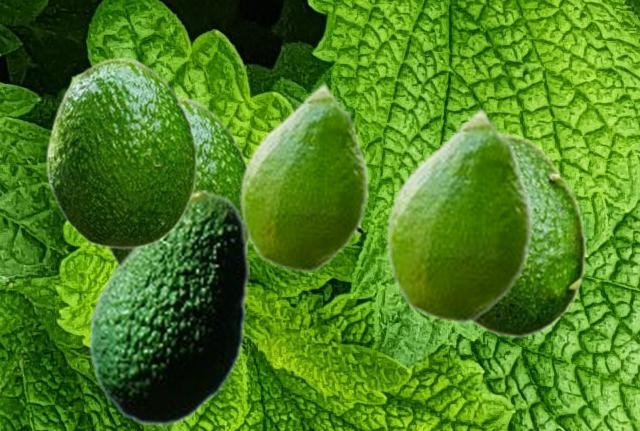avocado: (88, 190, 248, 425), (385, 106, 532, 323), (46, 57, 197, 248), (239, 81, 368, 272), (469, 133, 586, 337), (108, 95, 249, 264)
